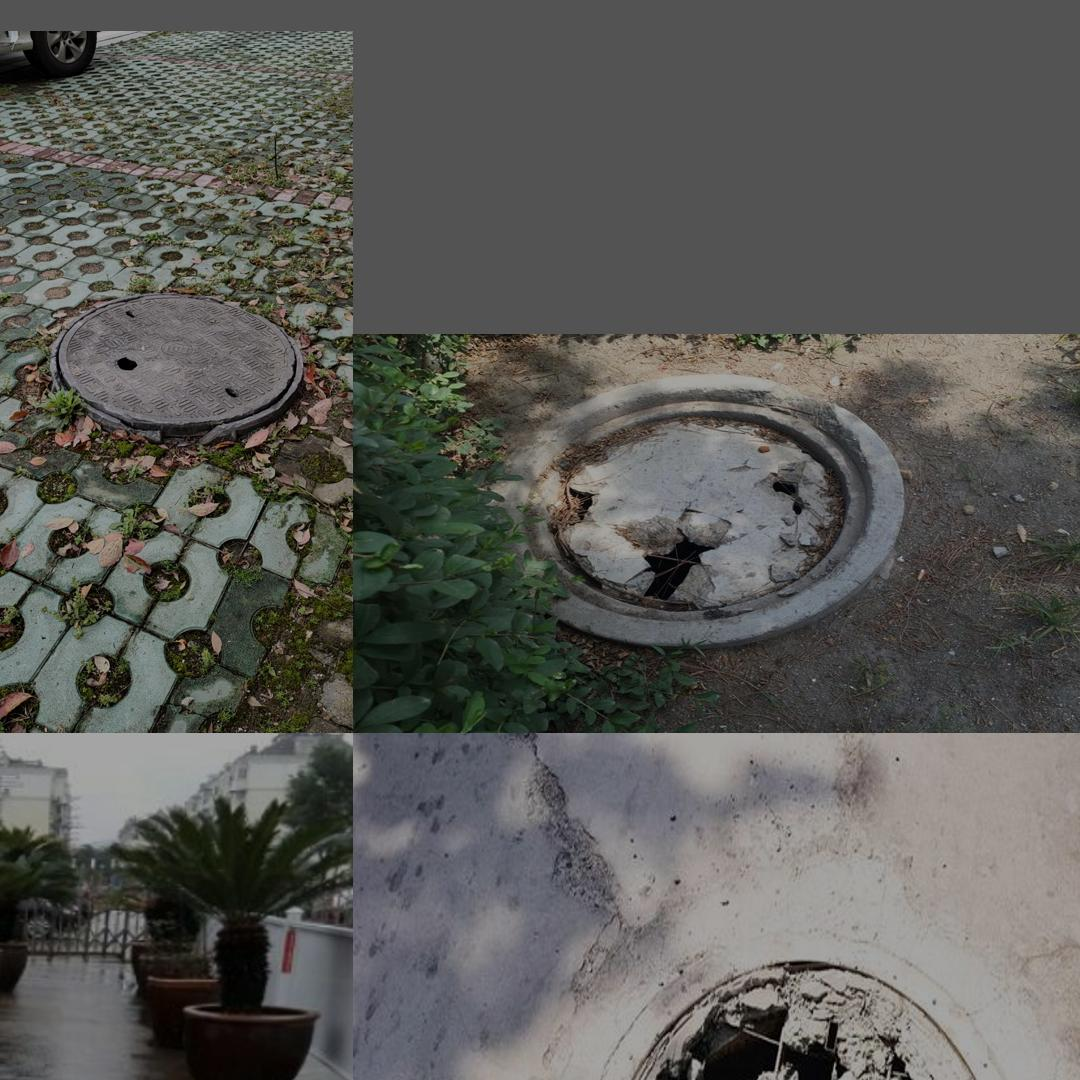broke: (462, 373, 916, 649), (477, 903, 1080, 1080), (46, 290, 303, 445)
